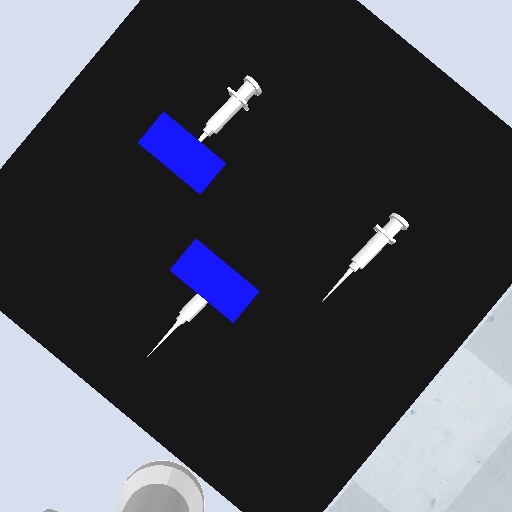jeringuilla: (318, 210, 413, 306), (194, 73, 266, 145), (143, 292, 212, 361)
